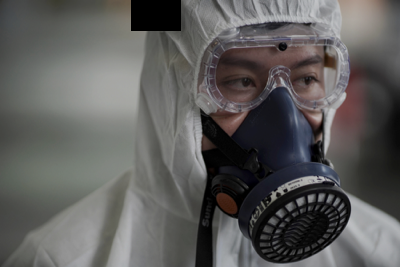with_mask: (201, 38, 345, 213)
